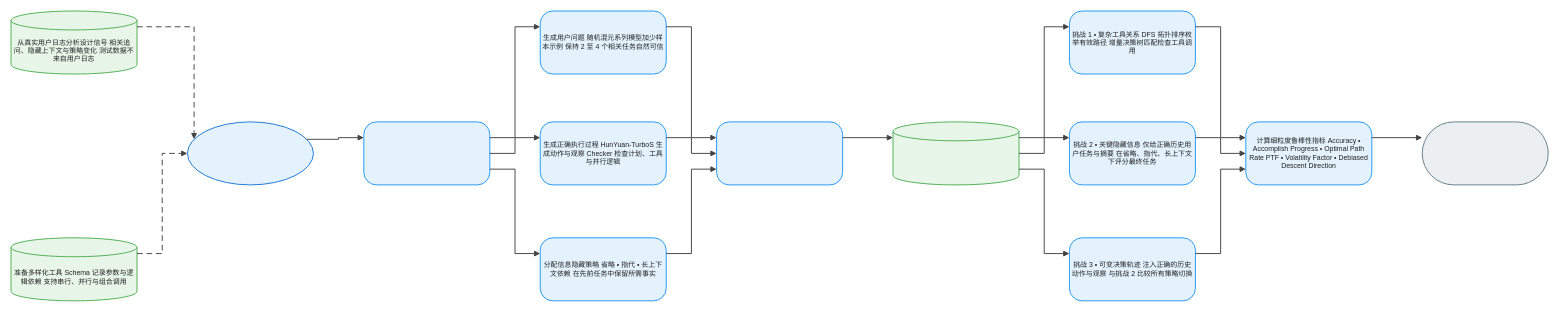
This 1560x312 diagram has some shape labels left out. Here are the shapes that lost their labels. From the top down, the centre of each, then its label:
At point (250, 153): "运行五角色生成框架 User • Planner • AI Agent • Tool • Checker 15 种角色子类与启发式规则".
At point (426, 153): "采样目标决策轨迹 指定单工具、多工具、聊天或澄清策略 覆盖串行、并行与混合多工具形式".
At point (779, 153): "五位 LLM 研究专家修订数据 自检 • 交叉检查 • 高级专家终审 准确率从约 60% 提升到接近 100%".
At point (955, 153): "组装 C3-Bench 测试数据 256 条单任务与 768 条多任务 均匀覆盖 336 种策略切换类型".
At point (1484, 153): "比较 49 个快思考、慢思考与专用 Agent 诊断工具依赖、上下文、任务长度和策略影响 发布数据、生成框架、测试 Harness 与排行榜".
